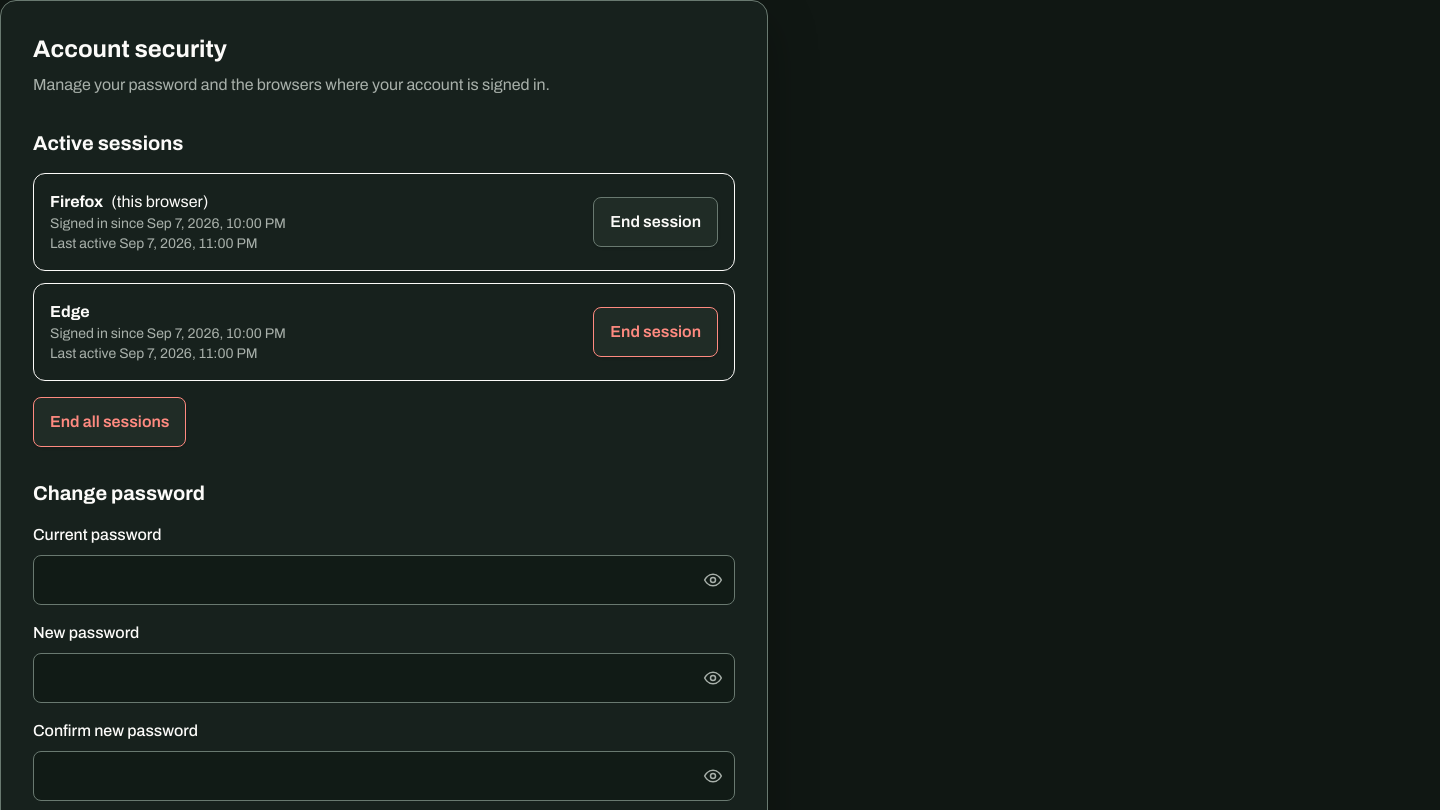
it: AccountSecurityView › dismisses a requested reauthentication without running the pending action
Check: the element with test id "account-security-view" shows "Firefox", box [50,193,103,210]
Click the button with test id "end-other-session".
click(656, 332)  # box [593,307,718,357]
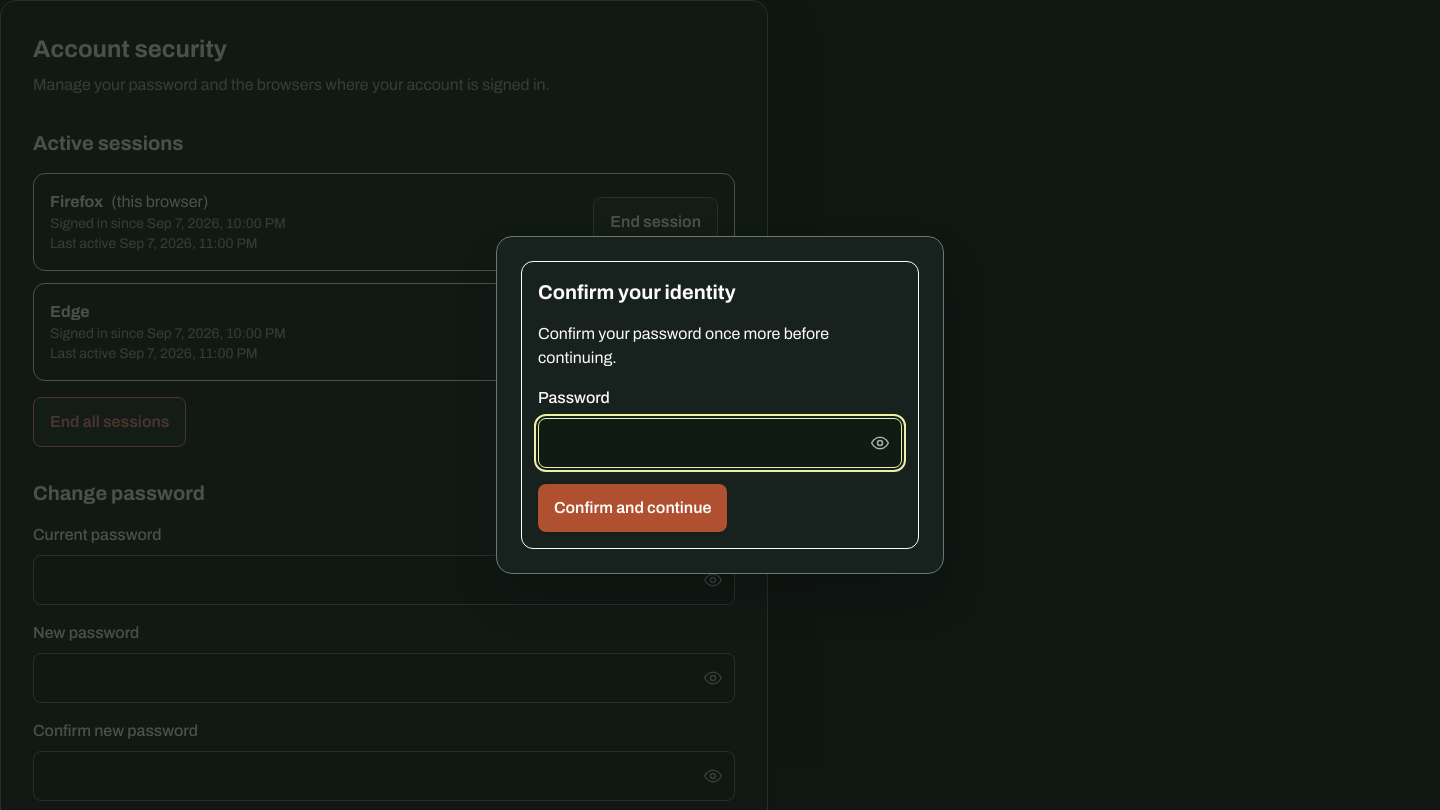
Check: the dialog is shown, box [496,236,944,574]
Press Escape
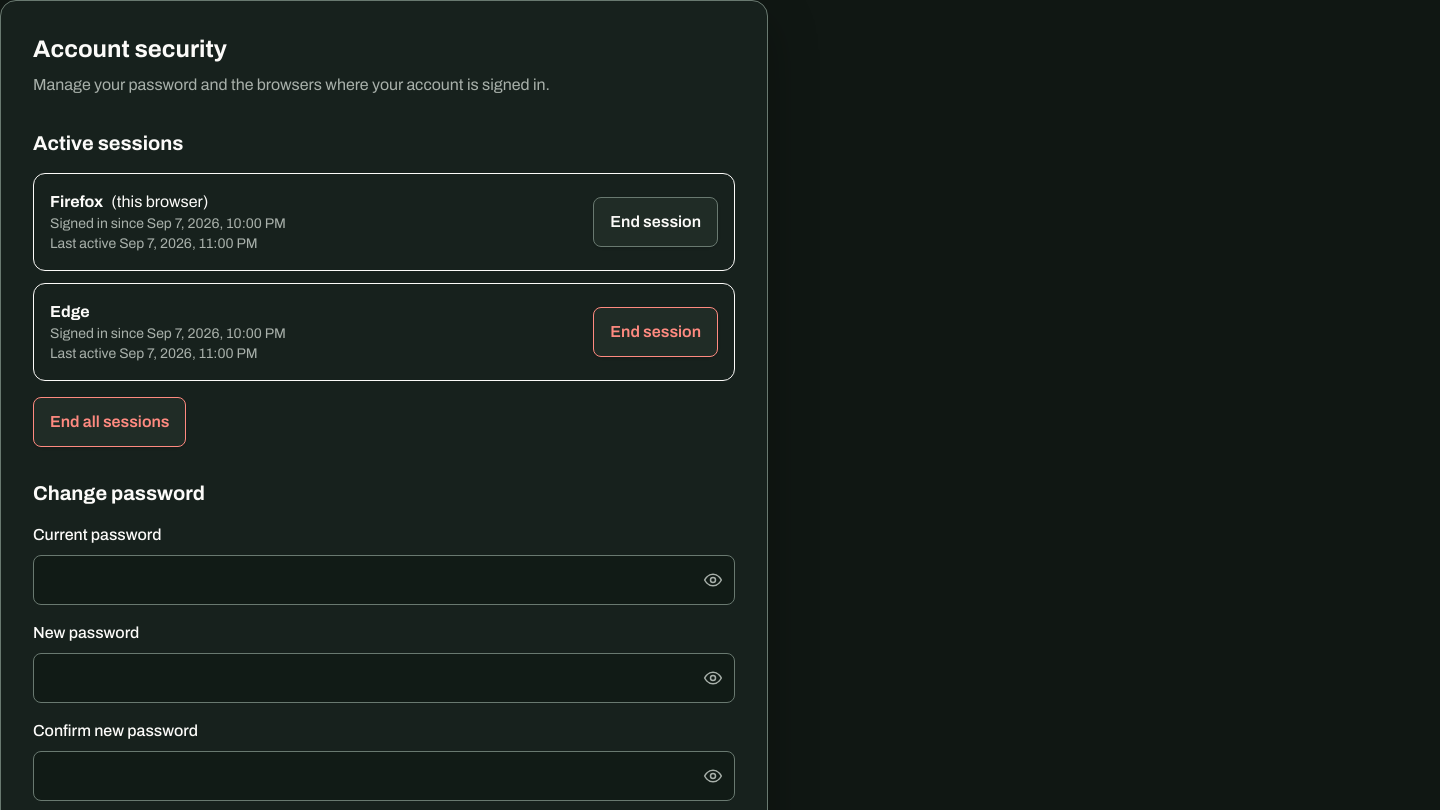
Check: the dialog is gone
